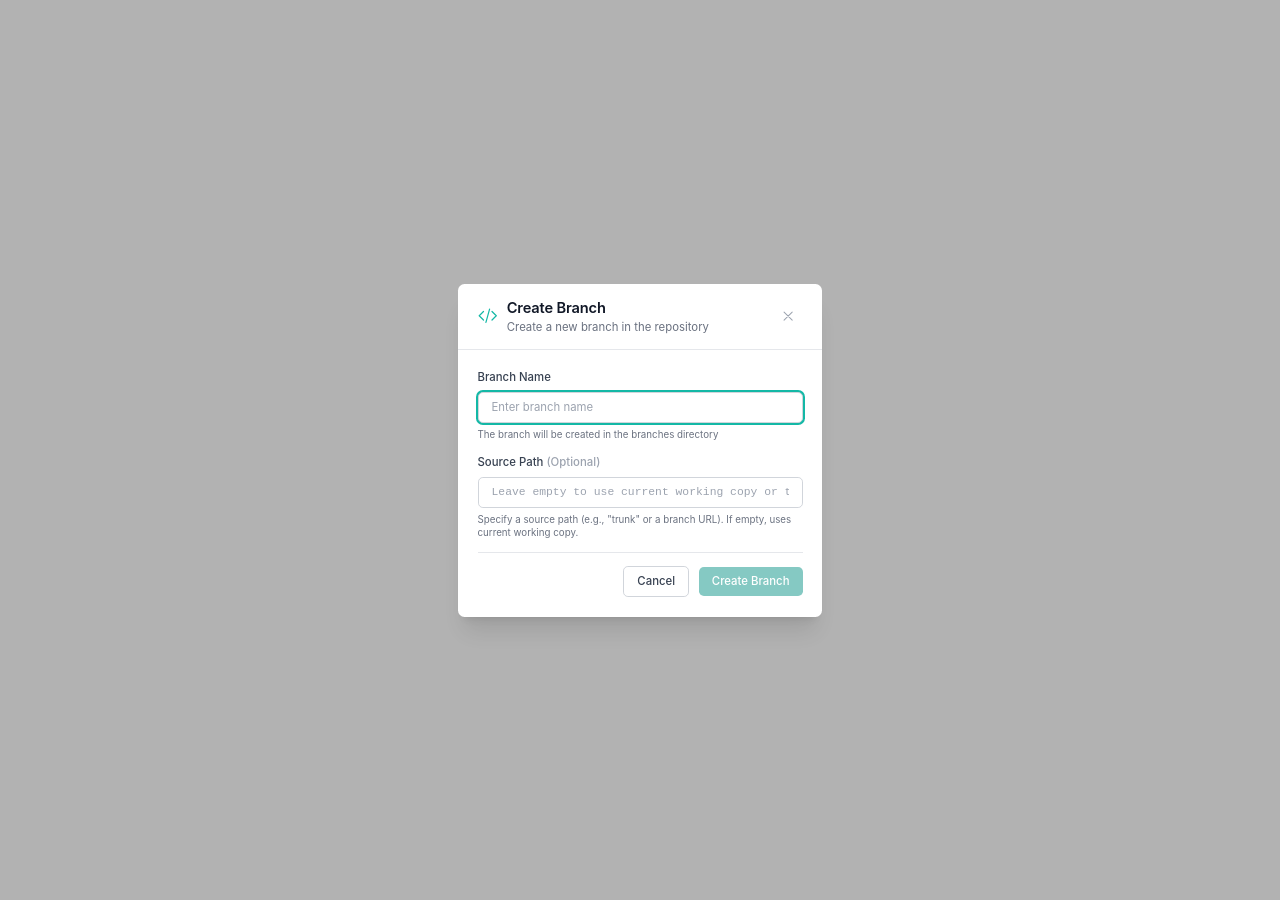
Scenario: CreateBranchTagModal › handles creation error
Type "feature-branch" into the field with placeholder "Enter branch name" at (640,407), box [478,392,802,423]
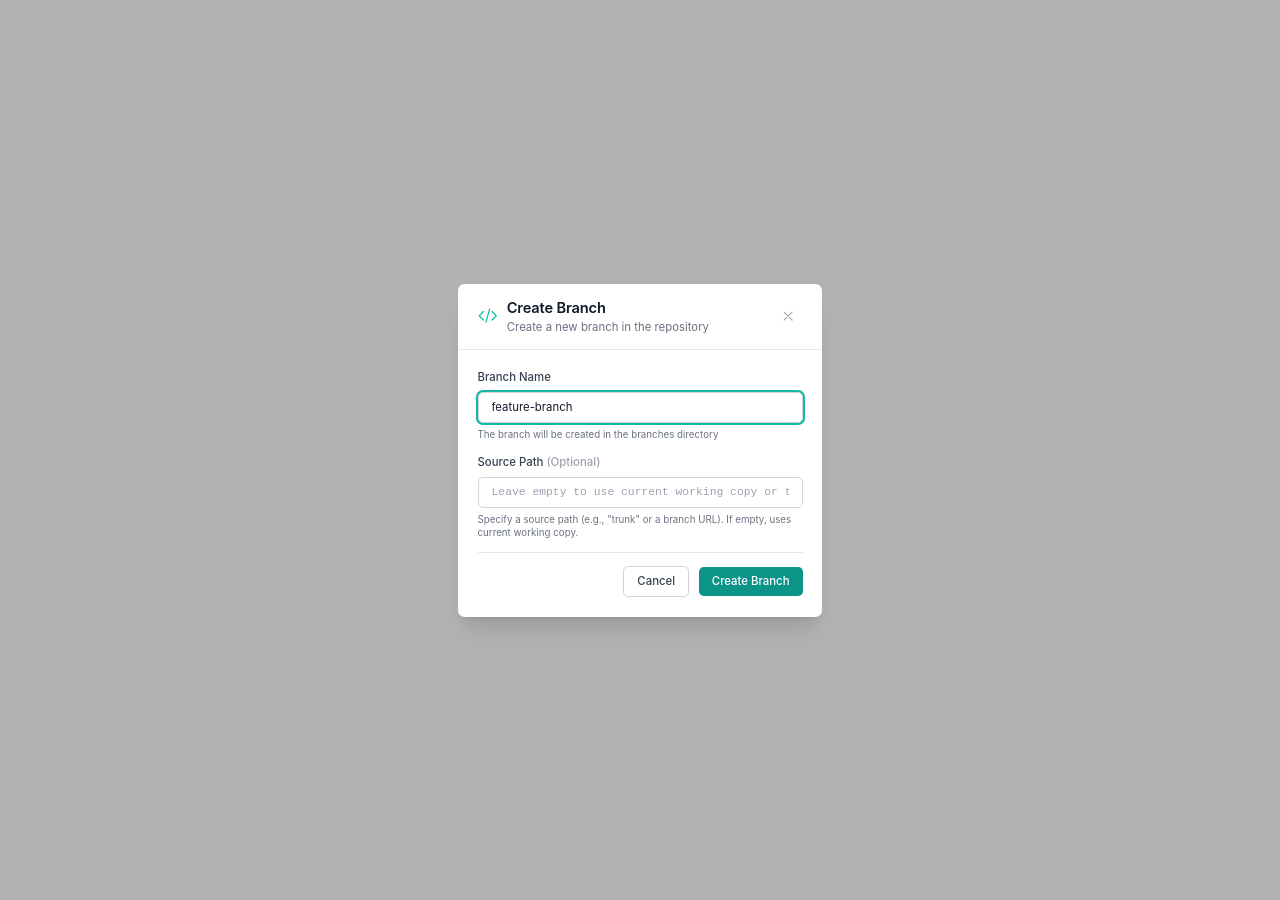
Click the button "Create Branch" at (751,581), box [699,567,802,596]
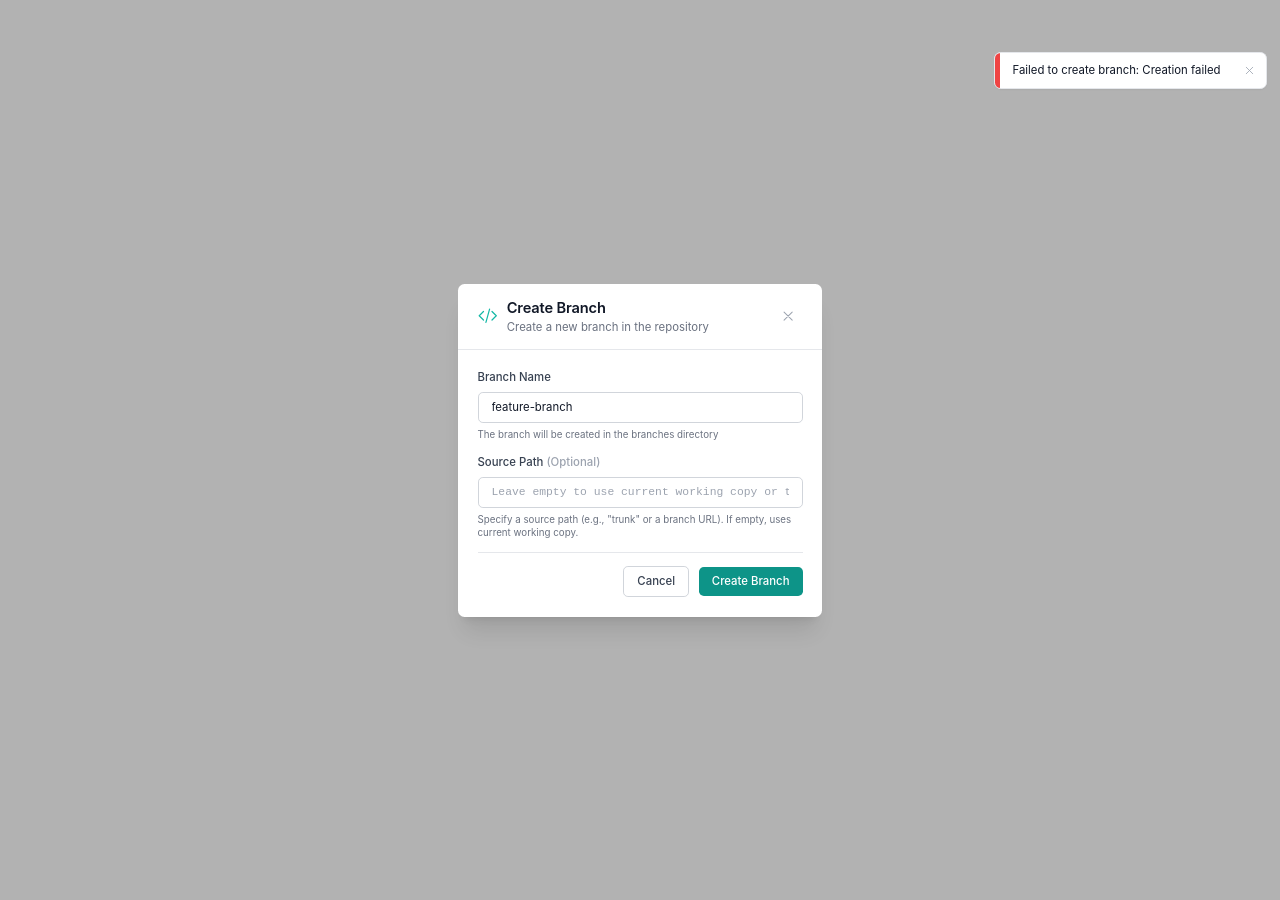
Now the text "Failed to create branch: Creation failed" is shown, box [1012,63,1220,78]
